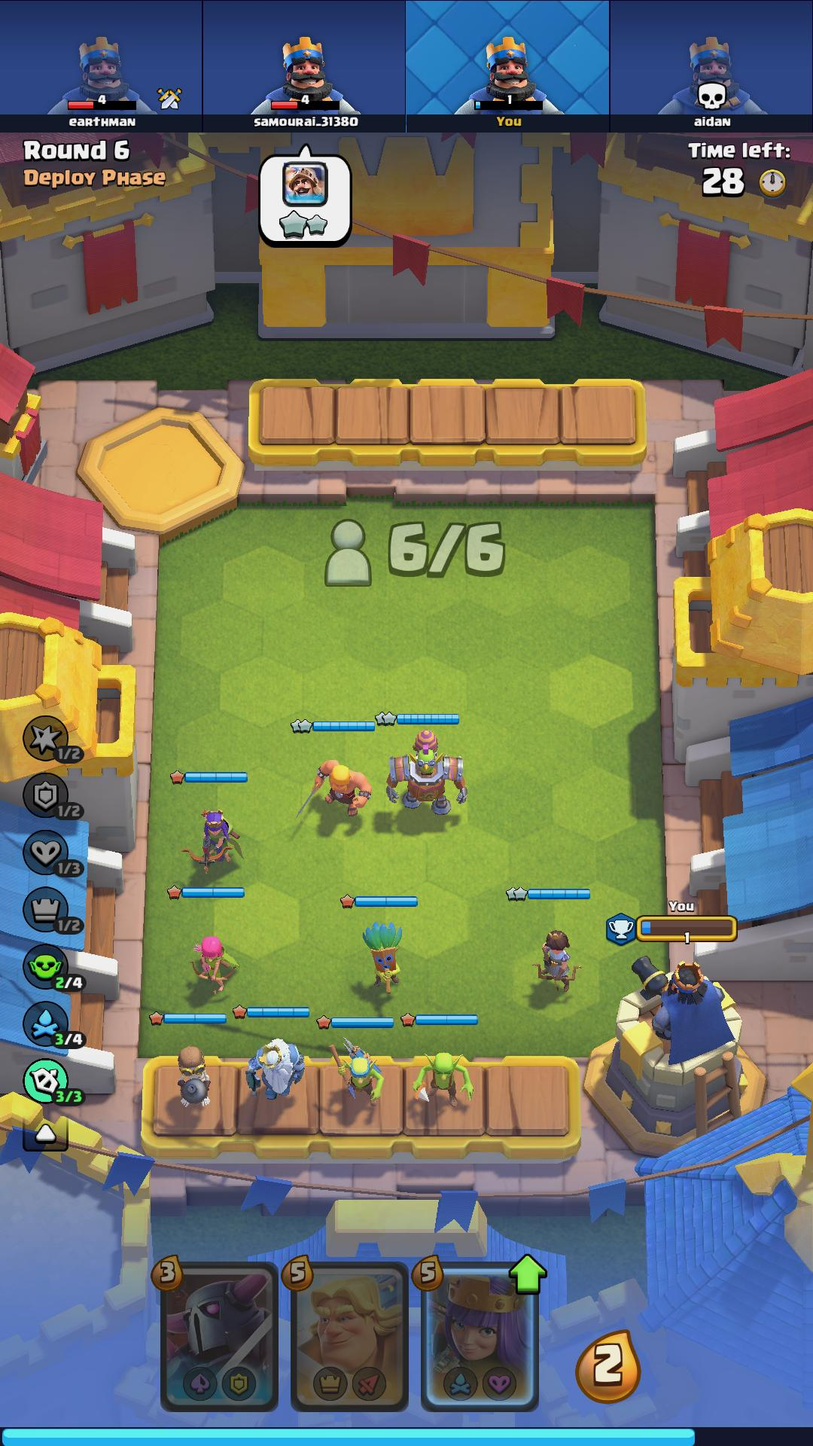archer: (178, 920, 248, 1000)
barbarian: (297, 751, 376, 828)
bomber: (161, 1041, 217, 1115)
dart: (353, 915, 414, 999)
ghost: (238, 1029, 307, 1108)
goblin: (408, 1038, 477, 1118)
hand-golden: (292, 1267, 408, 1411)
hand-pekka: (166, 1265, 277, 1408)
hand-queen: (428, 1264, 533, 1407)
machine: (381, 732, 469, 823)
princess: (529, 923, 581, 1000)
queen: (178, 801, 248, 871)
spear: (320, 1032, 398, 1113)
upgrade: (506, 1251, 551, 1298)
